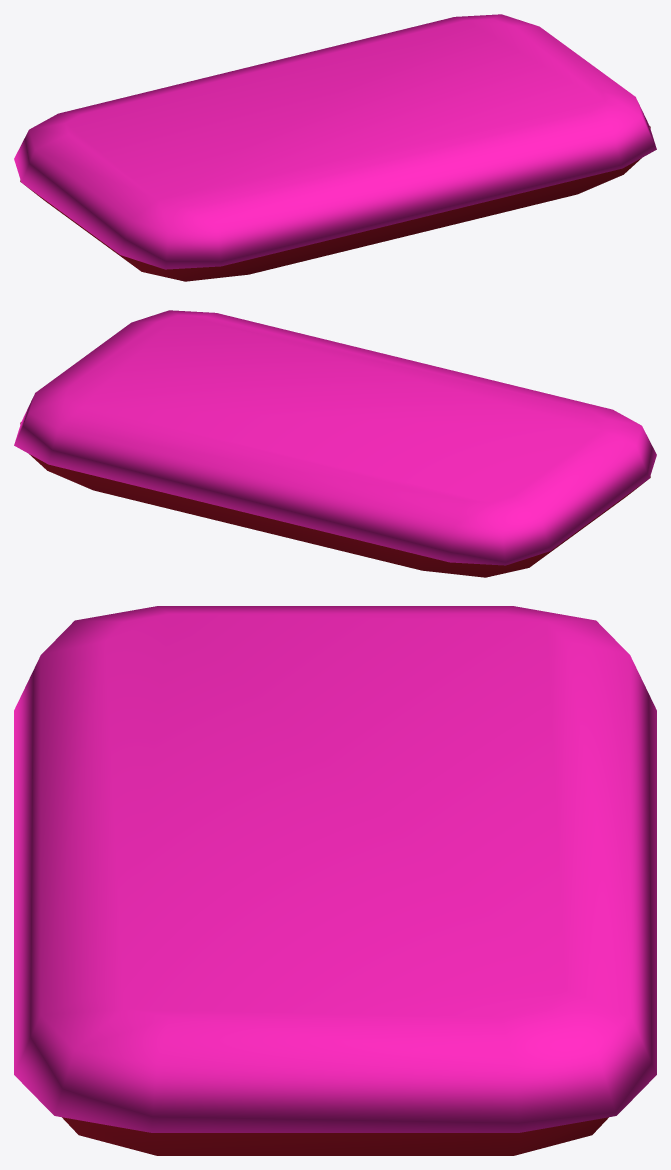
The model's file is Dumper_rect.gltf.
The picture shows the model from 3 angles, top to bottom: view 1: azimuth 30°, elevation 25°; view 2: azimuth 150°, elevation 25°; view 3: azimuth 270°, elevation 25°; orthographic projection. The views are drawn at different scales.
Visible parts, largest first — view 1: Dumper_rect_glb, Dumperb_rect_glb; view 2: Dumper_rect_glb, Dumperb_rect_glb; view 3: Dumper_rect_glb, Dumperb_rect_glb.
Boxes of the visible parts, box(x1,y1,x2,y2) form: Dumper_rect_glb: box(14, 14, 656, 269); Dumperb_rect_glb: box(20, 126, 650, 281); Dumper_rect_glb: box(14, 310, 656, 565); Dumperb_rect_glb: box(20, 422, 650, 577); Dumper_rect_glb: box(14, 606, 656, 1132); Dumperb_rect_glb: box(62, 1117, 608, 1155).
Size of the model in its own units: 1.75 by 0.232 by 0.9918.
Materials: 1 (1 with a texture image).
